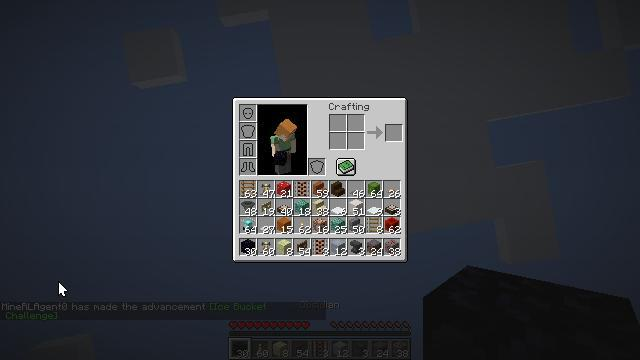cursor: (281, 58, 297, 68)
